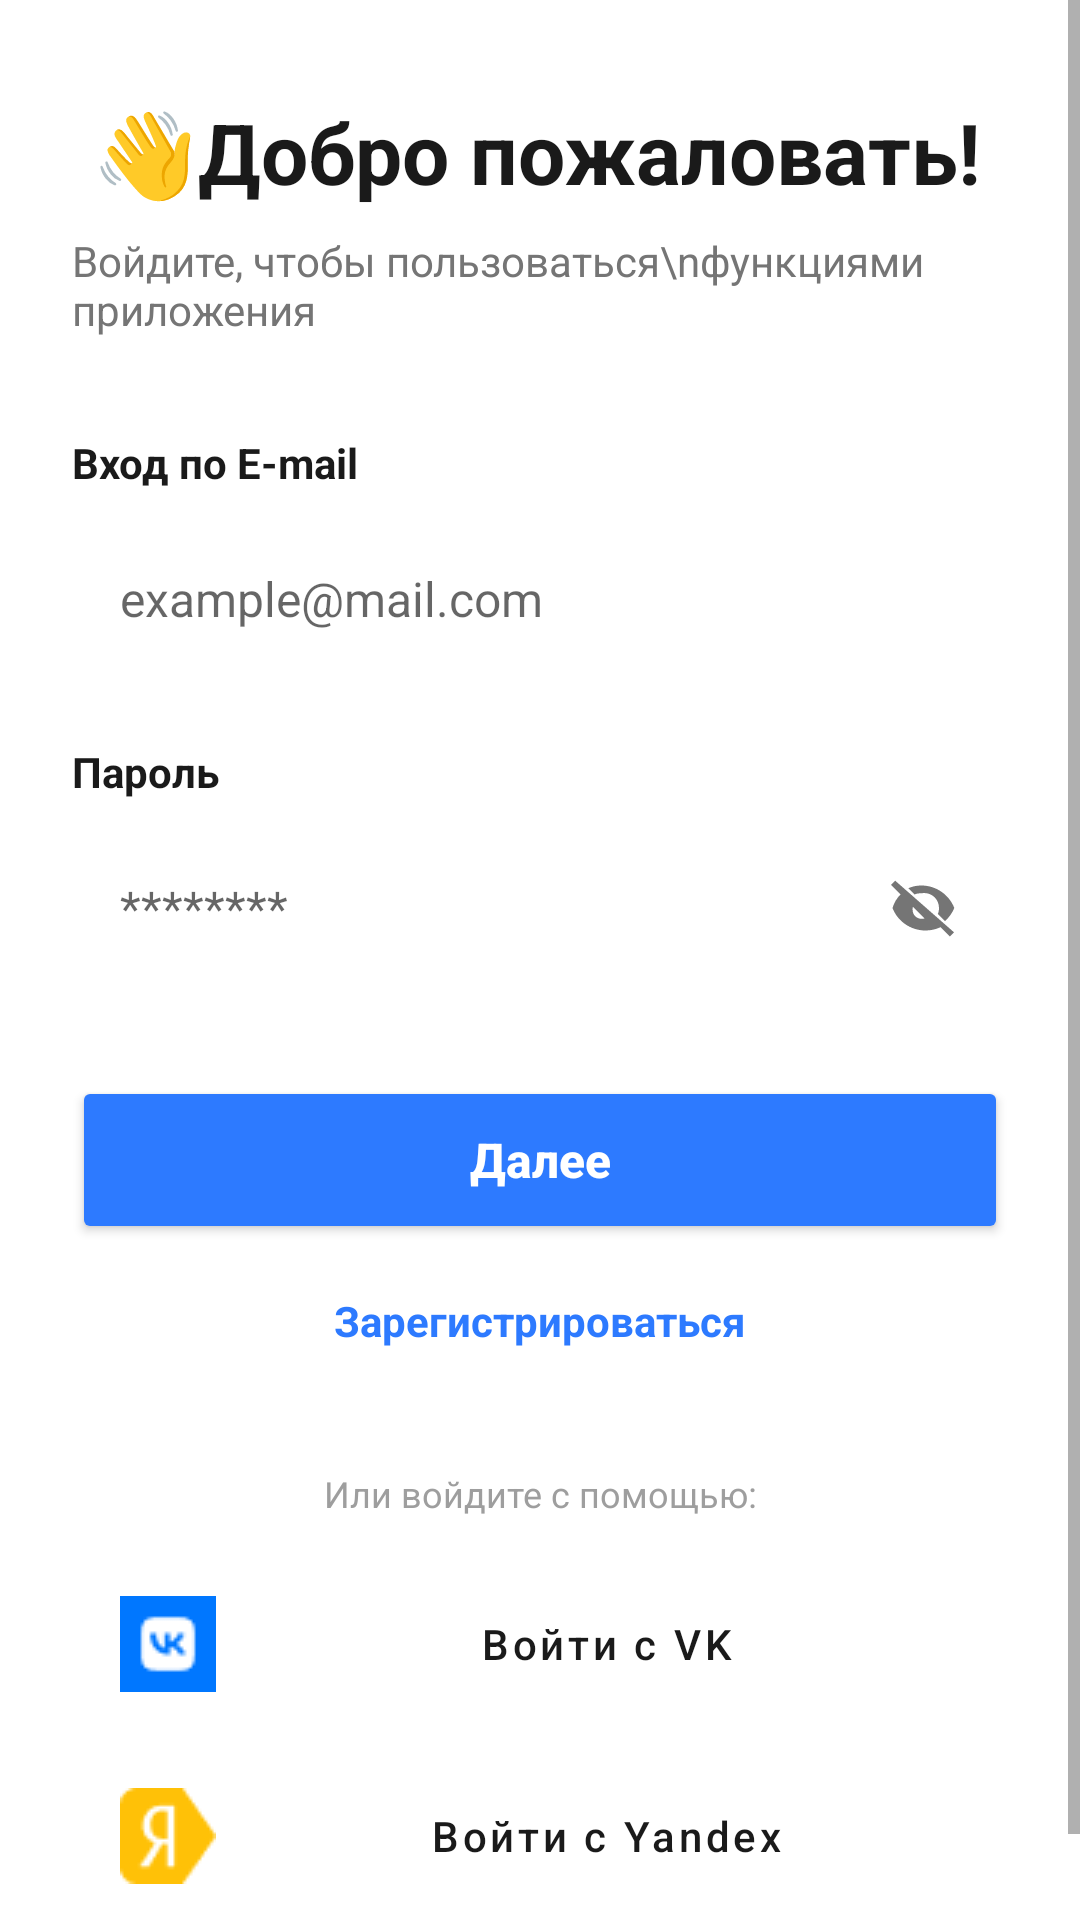

Point at icon controls on the screen. Image size 1080w x 1920h, points as (x=x, y=y).
eye close: (x=922, y=909)
